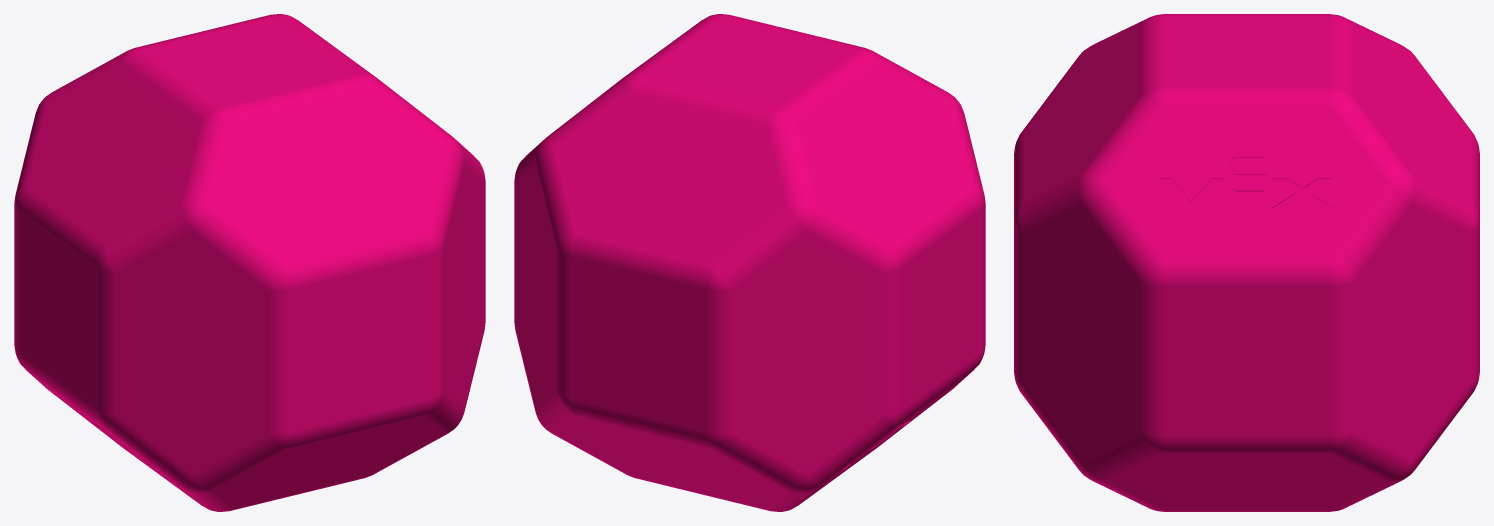
Rendered from vex-ball-red-cd.dae.
3 views of the same model, side by side, from view 1: azimuth 30°, elevation 25°; view 2: azimuth 150°, elevation 25°; view 3: azimuth 270°, elevation 25° (orthographic). The views are drawn at different scales.
Visible parts, largest first — view 1: vex_pb_ball_red; view 2: vex_pb_ball_red; view 3: vex_pb_ball_red.
Boxes of the visible parts, box(x1,y1,x2,y2) form: vex_pb_ball_red: box(14, 14, 485, 511); vex_pb_ball_red: box(514, 14, 985, 511); vex_pb_ball_red: box(1014, 14, 1479, 511).
Size of the model in its own units: 0.082 by 0.082 by 0.082.
